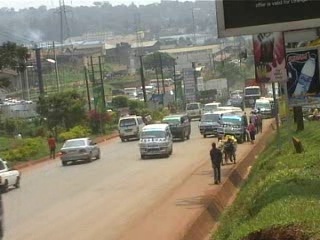Car: (57, 135, 104, 167)
